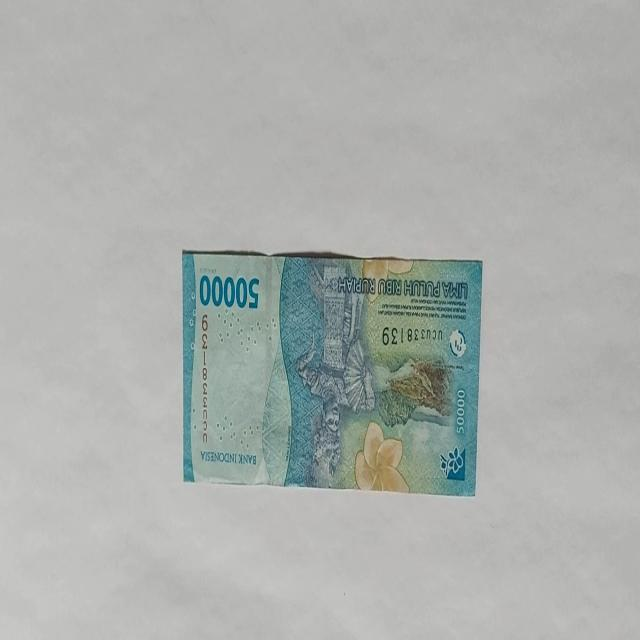lima puluh ribu rupiah: (181, 248, 484, 495), (198, 270, 260, 310)
